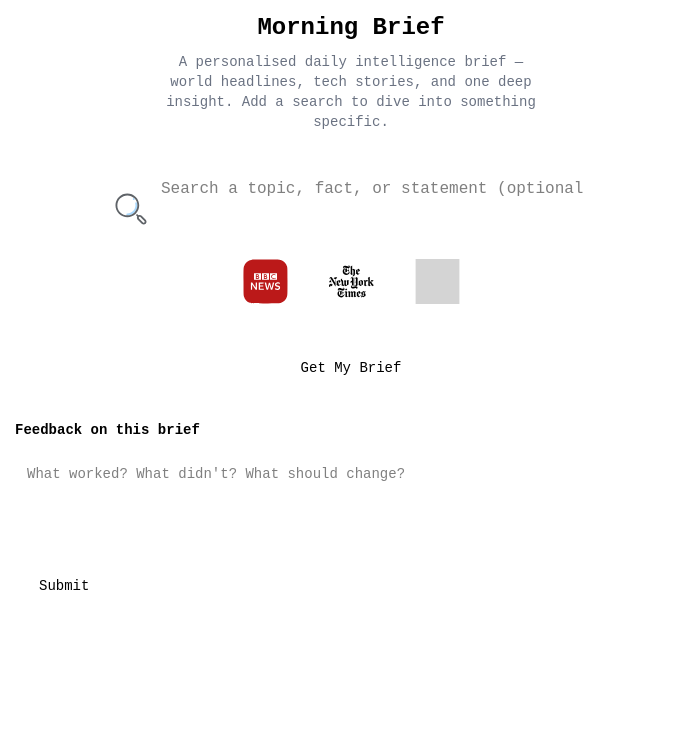
MorningBrief › shows loading state for all sections after clicking the button
Click the button "Get My Brief". click: (351, 368)
box: [269,348,433,388]
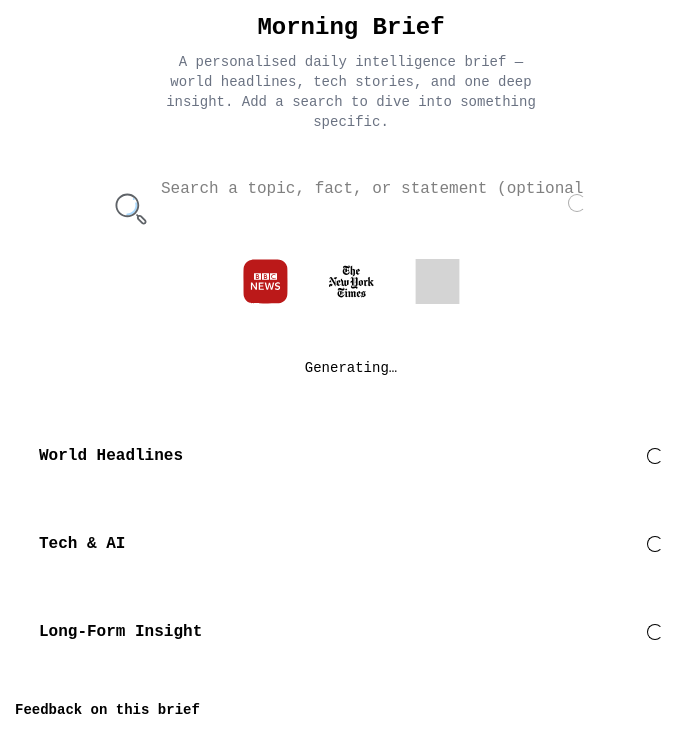
Expected: the heading "World Headlines" is shown, [39,444,183,468]
Expected: the heading "Tech & AI" is shown, [39,532,125,556]
Expected: the heading "Long-Form Insight" is shown, [39,620,202,644]
